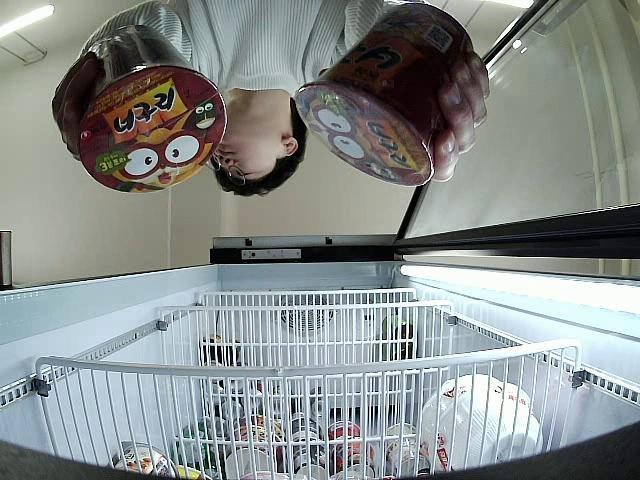06_nuguri_S: (296, 1, 471, 186), (78, 25, 228, 194)
